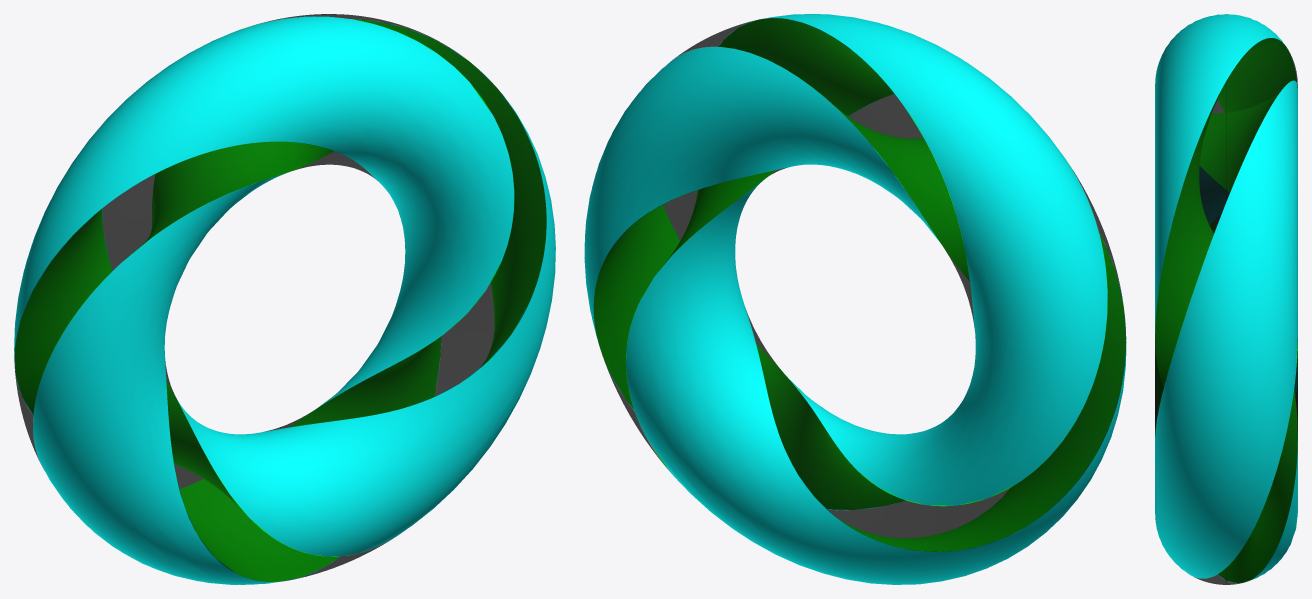
Rendered from UniTorus-circles.dae.
3 renders of one model, left to right at view 1: azimuth 30°, elevation 25°; view 2: azimuth 150°, elevation 25°; view 3: azimuth 270°, elevation 25°, orthographic. The views are drawn at different scales.
Parts seen in each view (by area): view 1: Torus, SplitCover, SplitSection; view 2: Torus, SplitCover, SplitSection; view 3: Torus, SplitCover, SplitSection.
Part boxes in pixels (box(x1,y1,x2,y2)): Torus: box(14, 16, 555, 584); SplitCover: box(14, 14, 546, 581); SplitSection: box(15, 16, 546, 581); Torus: box(584, 14, 1126, 584); SplitCover: box(593, 18, 1126, 551); SplitSection: box(593, 18, 1125, 551); Torus: box(1155, 14, 1297, 582); SplitCover: box(1155, 38, 1297, 584); SplitSection: box(1155, 38, 1297, 583).
Bounding box in the file's own units: 8 × 2 × 8.
